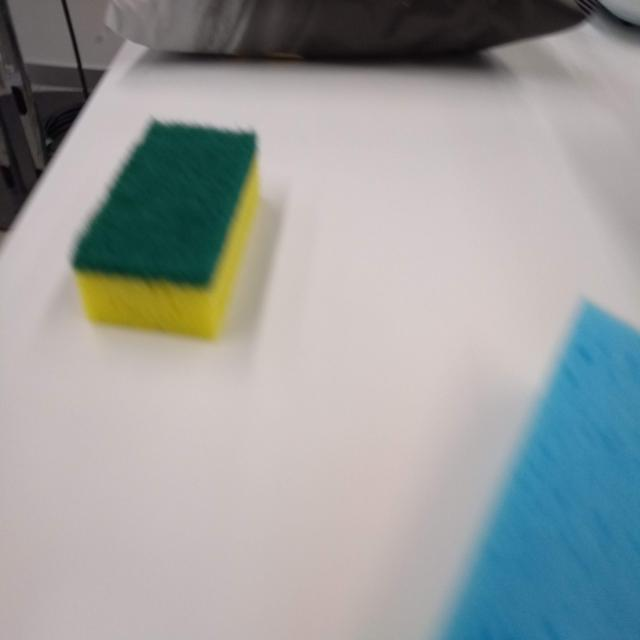scrubby: (71, 108, 269, 351)
